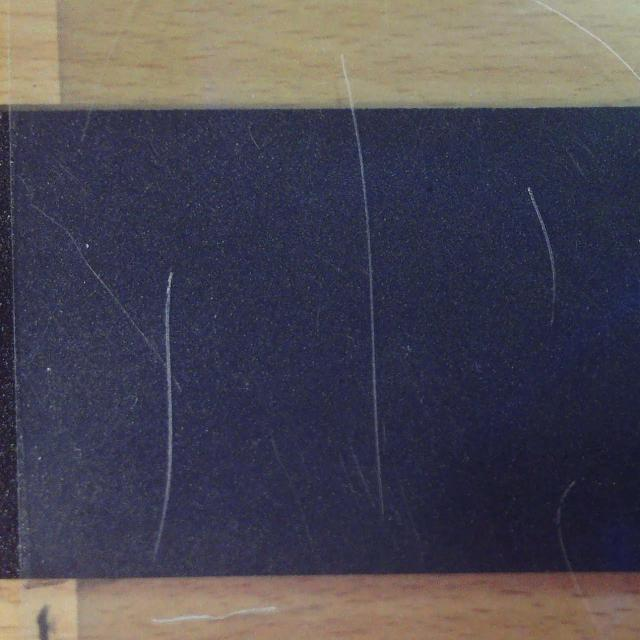defect: (31, 202, 181, 406), (352, 110, 394, 522), (150, 271, 174, 561), (518, 186, 565, 327), (549, 482, 581, 572)
